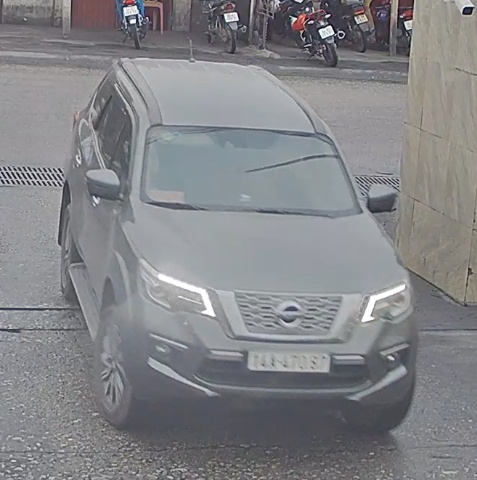vehicle plate: (246, 350, 340, 377)
